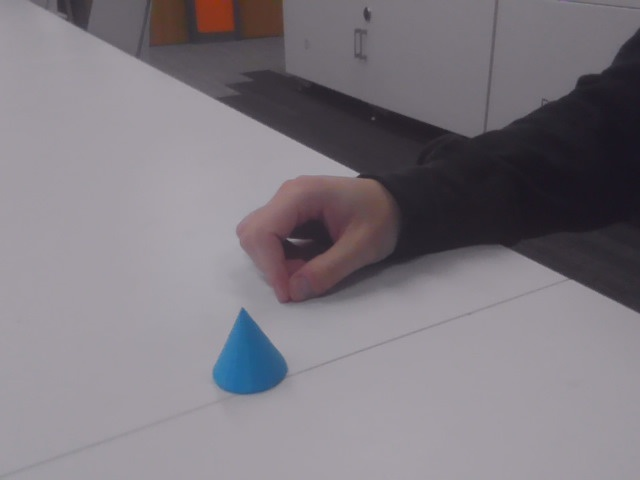cone: (214, 306, 289, 393)
